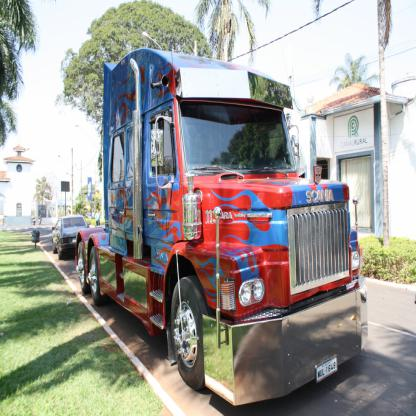Car: (52, 215, 90, 260)
Truck: (75, 40, 368, 406)
